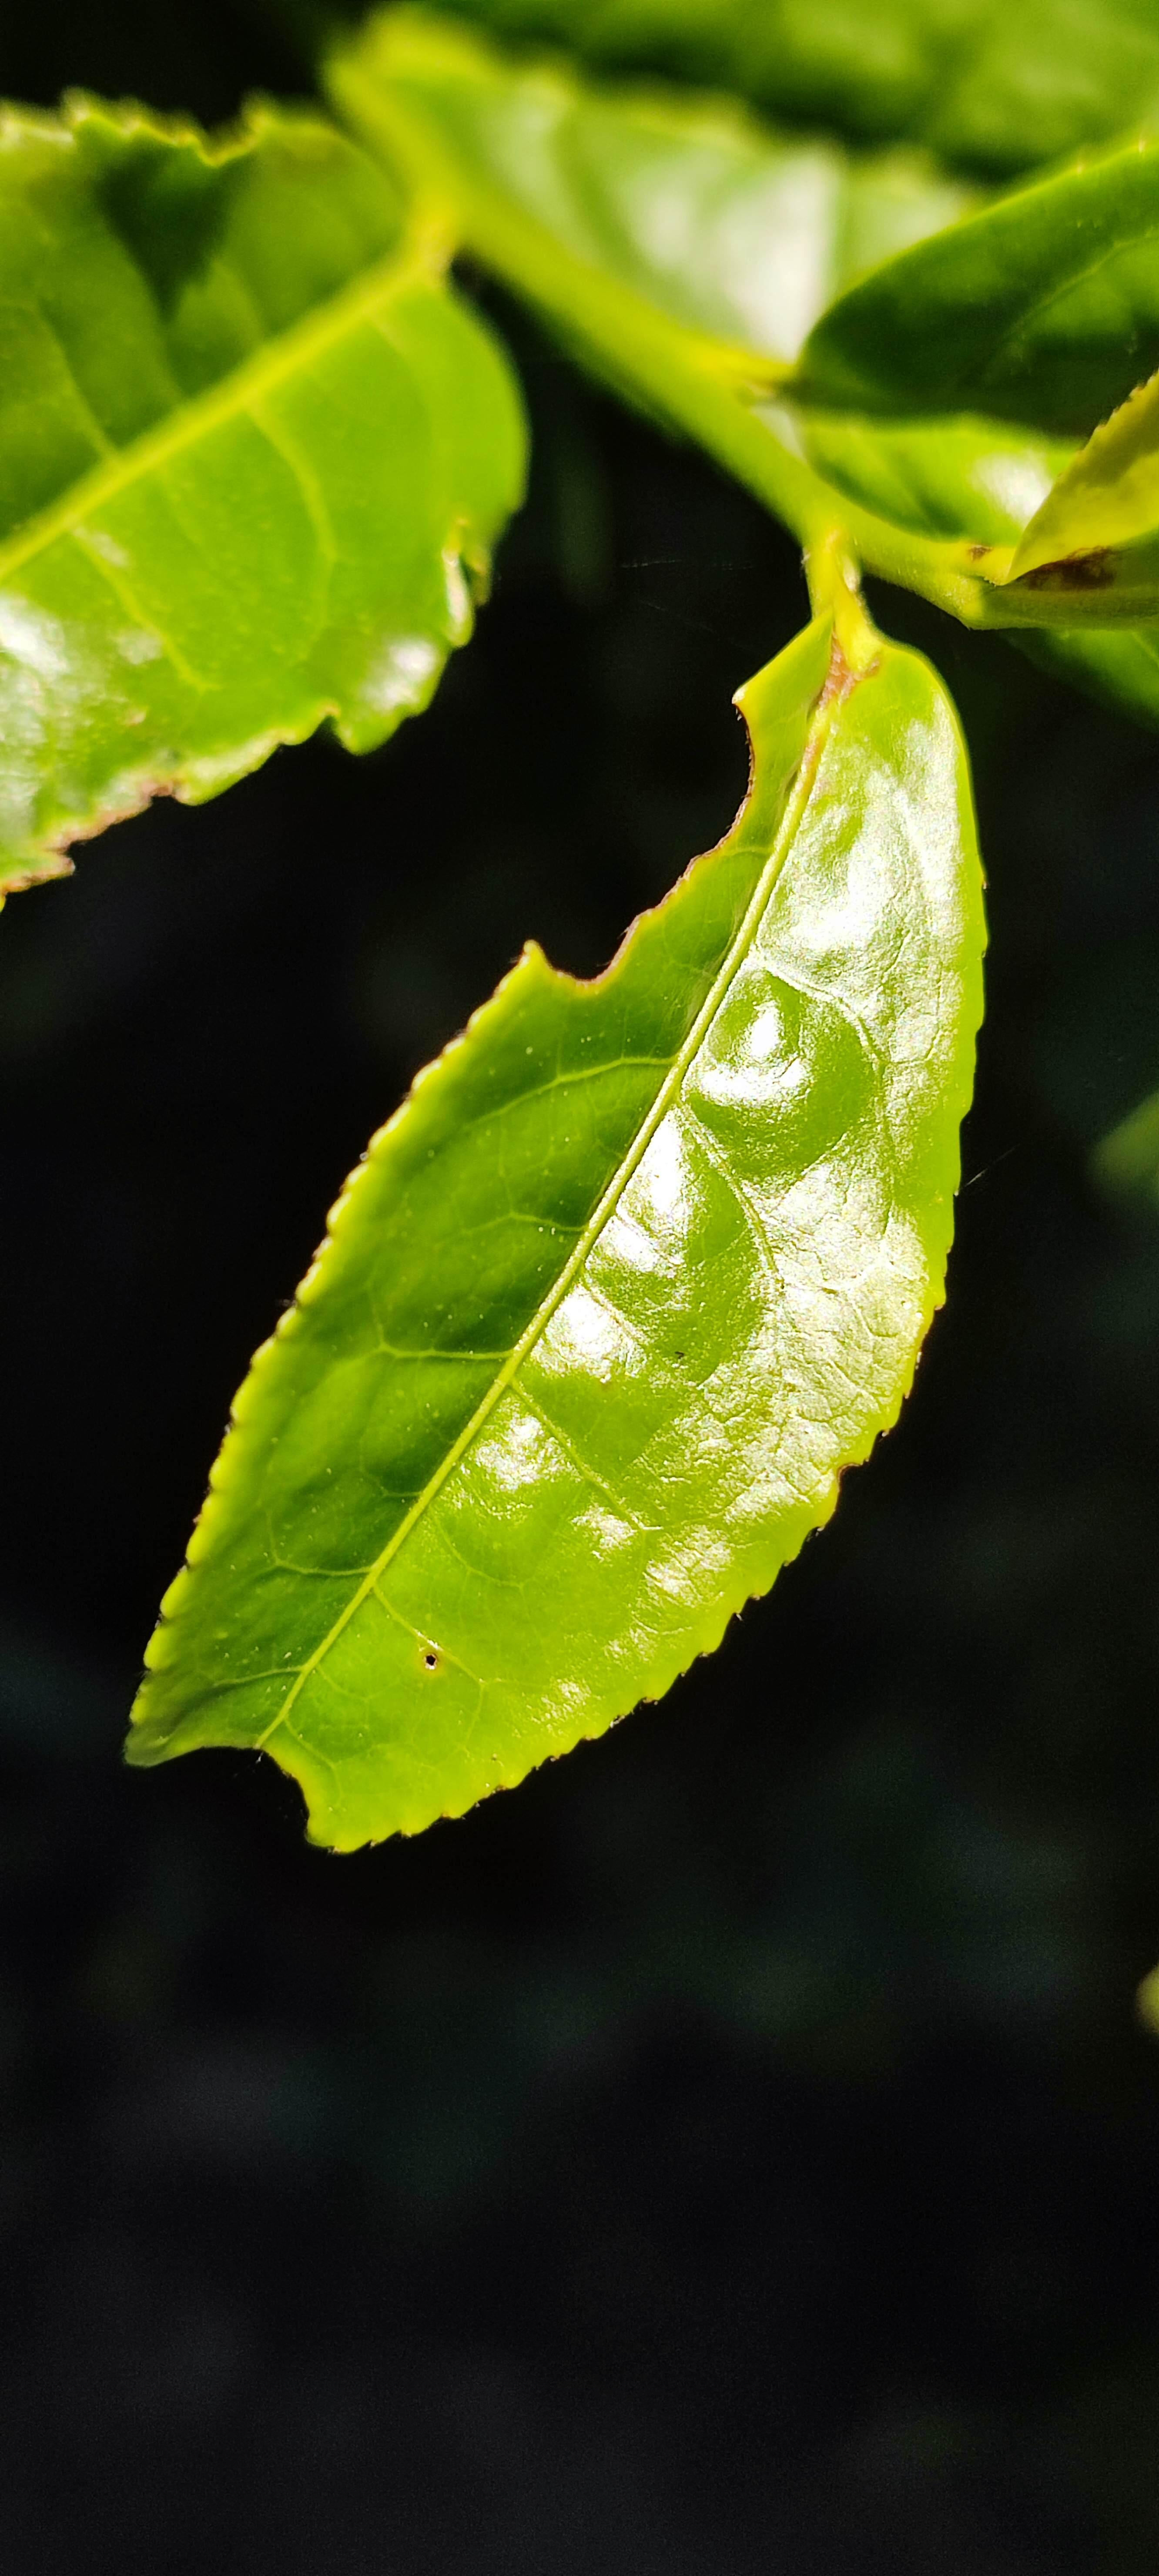chihuo_high: (128, 624, 1003, 1861)
healthy: (5, 77, 542, 904)
